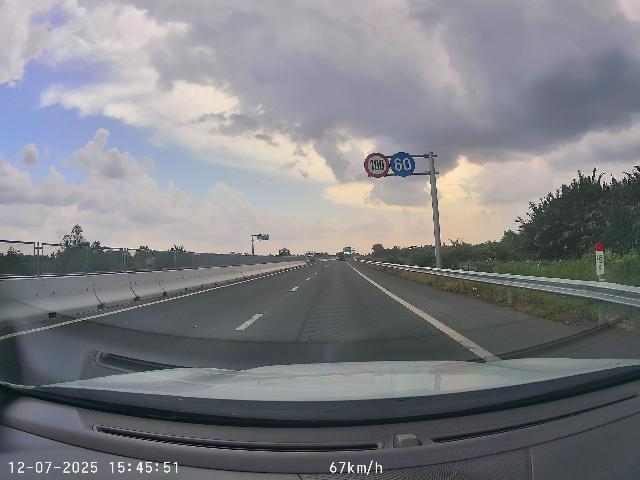127-toc-do-toi-da-100: (364, 153, 390, 178)
306-toc-do-toi-thieu-60: (390, 152, 415, 177)
